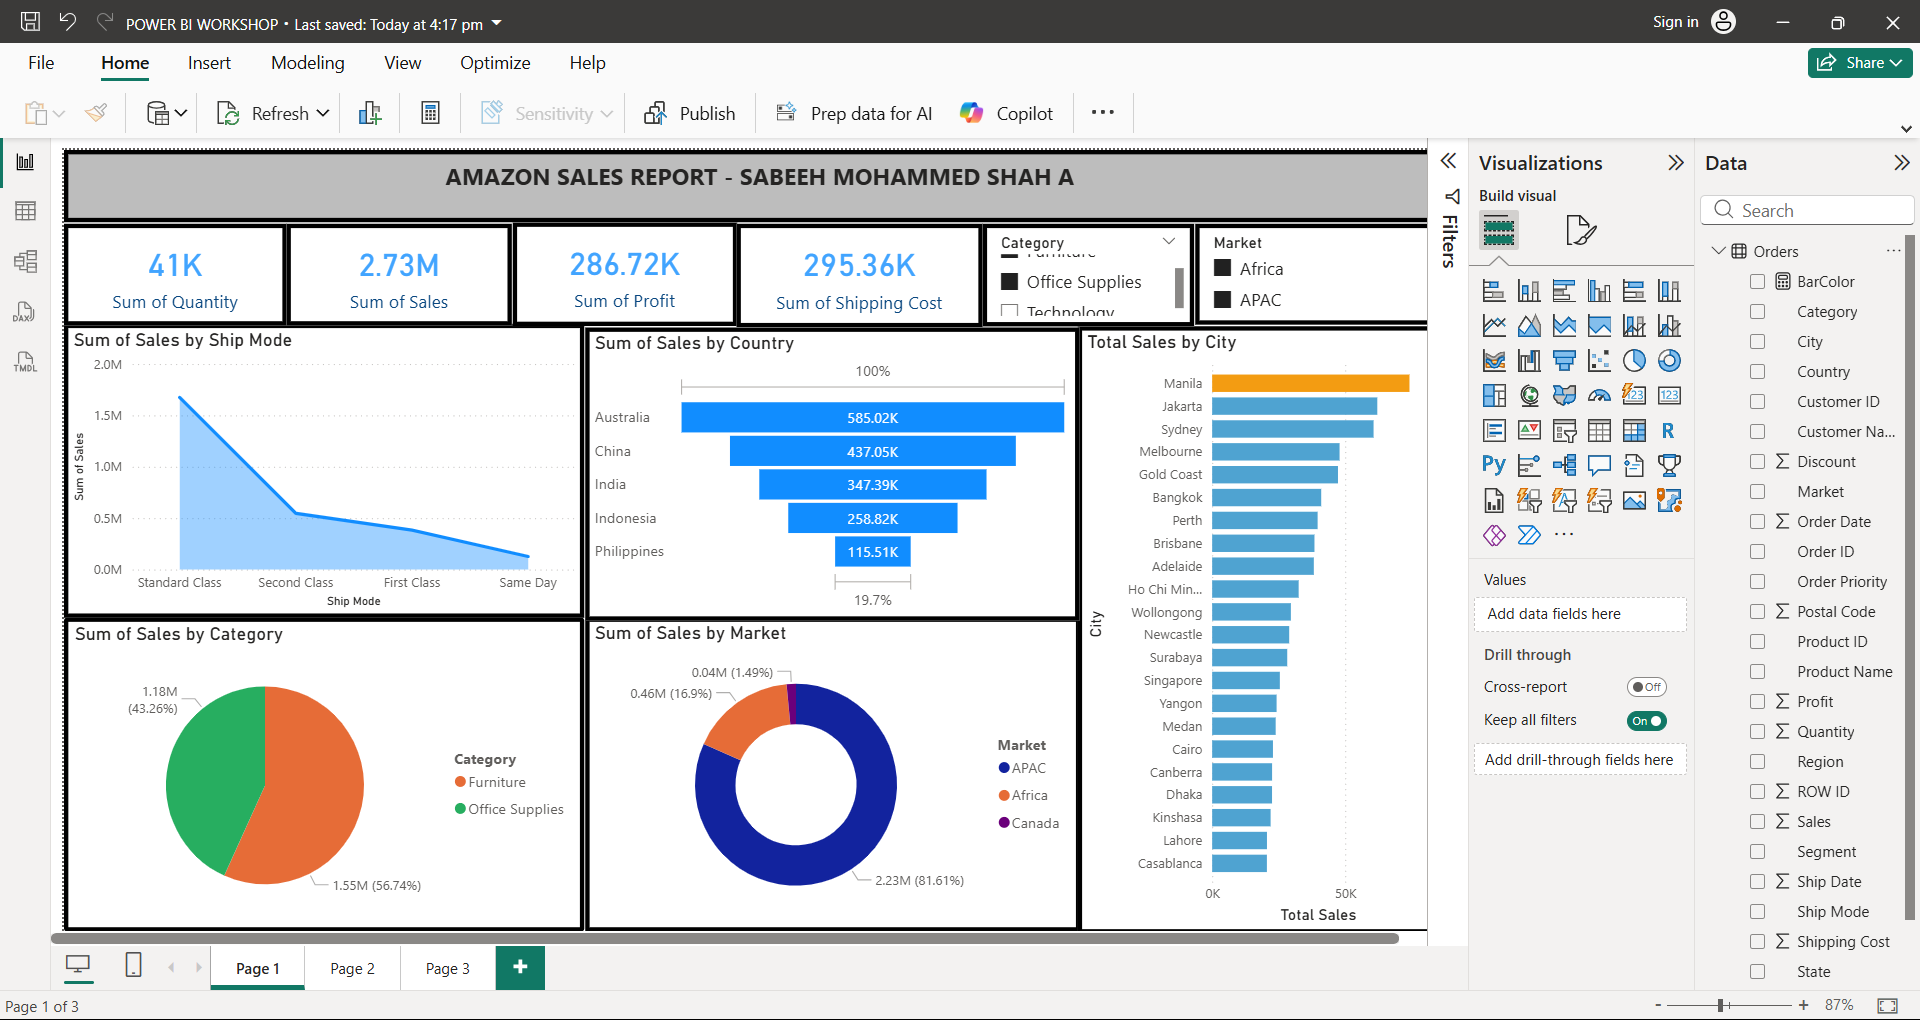

Layout of this report page (visuals, bound fields, positions):
{"tool":"powerbi","page":{"name":"Page 1","canvas":[1280,720],"ordinal":0},"visuals":[{"type":"pieChart","fields":{"Category":["Orders.Category"],"Y":["Sum(Orders.Sales)"]},"box":[0,430,478.8,288.8],"z":0},{"type":"donutChart","fields":{"Category":["Orders.Market"],"Y":["Sum(Orders.Sales)"]},"box":[478.8,430,455,288.8],"z":1000},{"type":"areaChart","fields":{"Category":["Orders.Ship Mode"],"Y":["Sum(Orders.Sales)"]},"box":[0,160,478.8,270],"z":2000},{"type":"barChart","fields":{"Category":["Orders.City"],"Y":["Orders.Total Sales"]},"box":[932.6,161.6,346.5,558.1],"z":3000},{"type":"funnel","fields":{"Category":["Orders.Country"],"Y":["Sum(Orders.Sales)"]},"box":[479.1,162.8,454.7,269.8],"z":4000},{"type":"textbox","box":[0,0,1280,66.2],"z":5000},{"type":"card","fields":{"Values":["Sum(Orders.Quantity)"]},"box":[0,67.5,205,93.8],"z":6000},{"type":"card","fields":{"Values":["Sum(Orders.Sales)"]},"box":[205,67.5,207.5,93.8],"z":7000},{"type":"card","fields":{"Values":["Sum(Orders.Profit)"]},"box":[412.5,66.2,206.2,95],"z":8000},{"type":"card","fields":{"Values":["Sum(Orders.Shipping Cost)"]},"box":[618.8,67.5,226.2,95],"z":9000},{"type":"slicer","fields":{"Values":["Orders.Category"]},"box":[845,67.5,195,92.5],"z":10000},{"type":"slicer","fields":{"Values":["Orders.Market"]},"box":[1040,67.5,240,92.5],"z":11000}]}

Visuals, with their boxes on the page's 1280x720 design canvas (x1, y1, x2, y2). These are canvas units, not pixel positions in the 1920x1020 screenshot, which may show the page scaled, cropped or inside an application window:
pieChart - Orders.Category x Sum(Orders.Sales): [left=0, top=430, right=479, bottom=719]
donutChart - Orders.Market x Sum(Orders.Sales): [left=479, top=430, right=934, bottom=719]
areaChart - Orders.Ship Mode x Sum(Orders.Sales): [left=0, top=160, right=479, bottom=430]
barChart - Orders.City x Orders.Total Sales: [left=933, top=162, right=1279, bottom=720]
funnel - Orders.Country x Sum(Orders.Sales): [left=479, top=163, right=934, bottom=433]
textbox: [left=0, top=0, right=1280, bottom=66]
card - Sum(Orders.Quantity): [left=0, top=68, right=205, bottom=161]
card - Sum(Orders.Sales): [left=205, top=68, right=412, bottom=161]
card - Sum(Orders.Profit): [left=412, top=66, right=619, bottom=161]
card - Sum(Orders.Shipping Cost): [left=619, top=68, right=845, bottom=162]
slicer - Orders.Category: [left=845, top=68, right=1040, bottom=160]
slicer - Orders.Market: [left=1040, top=68, right=1280, bottom=160]
